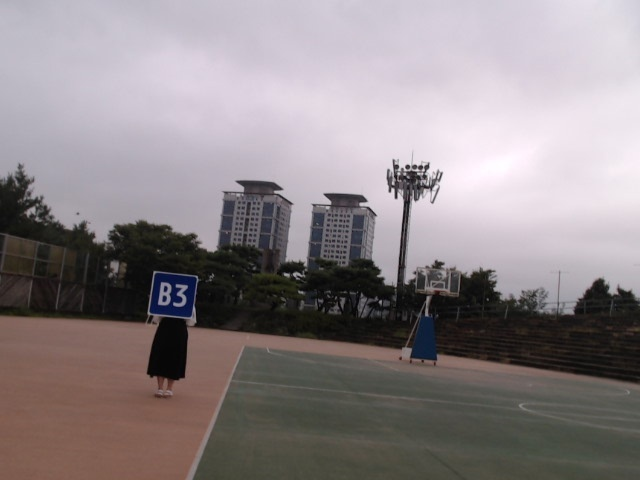delivery_b3: (148, 270, 197, 319)
